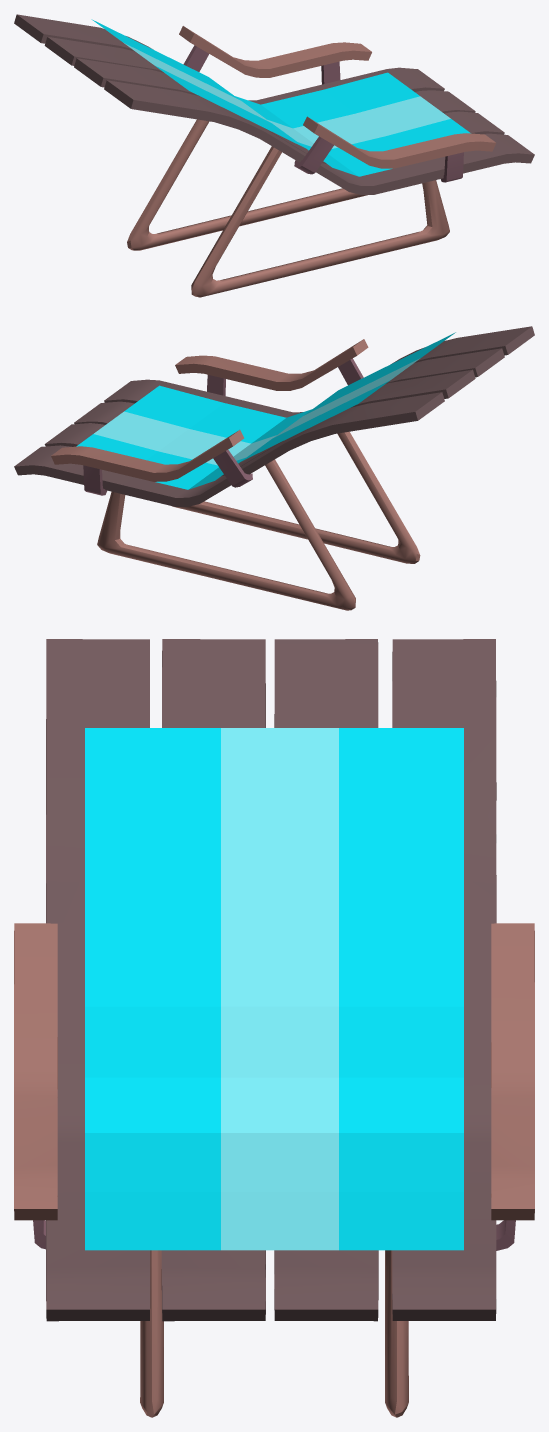
File: Beach Chair.fbx
The picture shows the model from 3 angles, top to bottom: view 1: azimuth 30°, elevation 25°; view 2: azimuth 150°, elevation 25°; view 3: azimuth 270°, elevation 25°; orthographic projection. The views are drawn at different scales.
Parts seen in each view (by area): view 1: Bench, Towel; view 2: Bench, Towel; view 3: Towel, Bench.
Part boxes in pixels (x1,y1,x2,y2): Bench: (14, 14, 534, 297); Towel: (91, 19, 470, 176); Bench: (14, 326, 534, 610); Towel: (76, 332, 455, 489); Towel: (85, 728, 463, 1250); Bench: (14, 639, 534, 1417).
Bounding box in the file's own units: 3.52 × 2 × 2.04.
